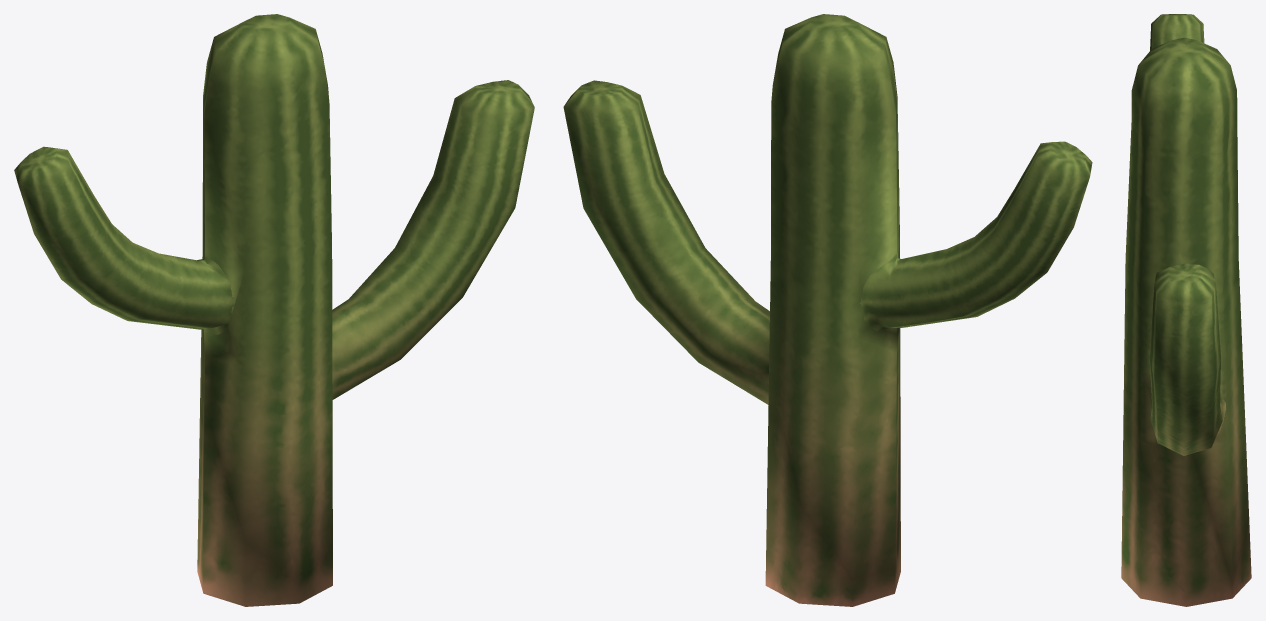
File: cactus_1.glb
The picture shows the model from 3 angles, left to right: view 1: azimuth 30°, elevation 25°; view 2: azimuth 150°, elevation 25°; view 3: azimuth 270°, elevation 25°; orthographic projection. The views are drawn at different scales.
Parts seen in each view (by area): view 1: cactus_1_cacturs_1_0; view 2: cactus_1_cacturs_1_0; view 3: cactus_1_cacturs_1_0.
Part boxes in pixels (x1,y1,x2,y2): cactus_1_cacturs_1_0: (14,14,534,606); cactus_1_cacturs_1_0: (563,14,1092,606); cactus_1_cacturs_1_0: (1121,14,1251,606).
Bounding box in the file's own units: 1.9 × 1.96 × 0.4359.
Materials: 1 (1 with a texture image).
